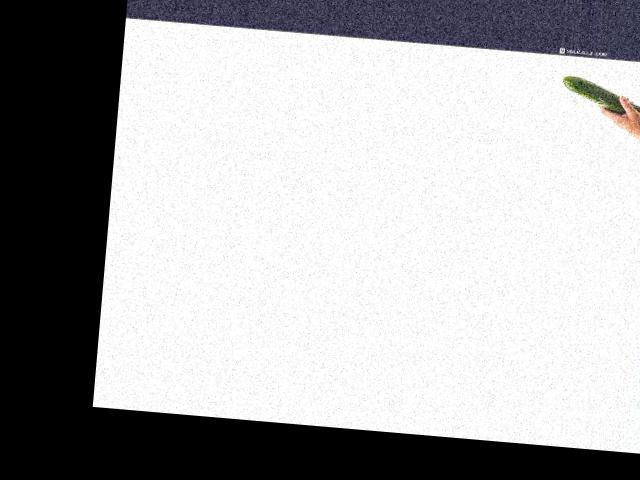cucumber: (560, 74, 640, 124)
